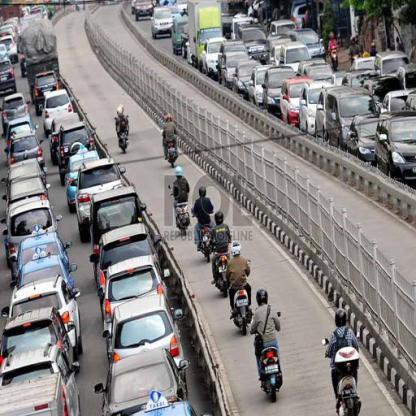car: (110, 291, 181, 363), (374, 113, 415, 179), (327, 88, 368, 142), (351, 116, 376, 160)
motorbike: (329, 339, 367, 415), (257, 338, 285, 401), (228, 283, 257, 334), (211, 246, 232, 294), (172, 196, 194, 236), (195, 222, 214, 255), (163, 138, 181, 168), (117, 128, 133, 152)
